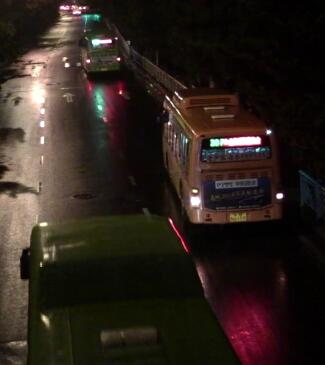bus: (21, 216, 245, 361), (157, 90, 286, 222), (80, 22, 117, 72)
